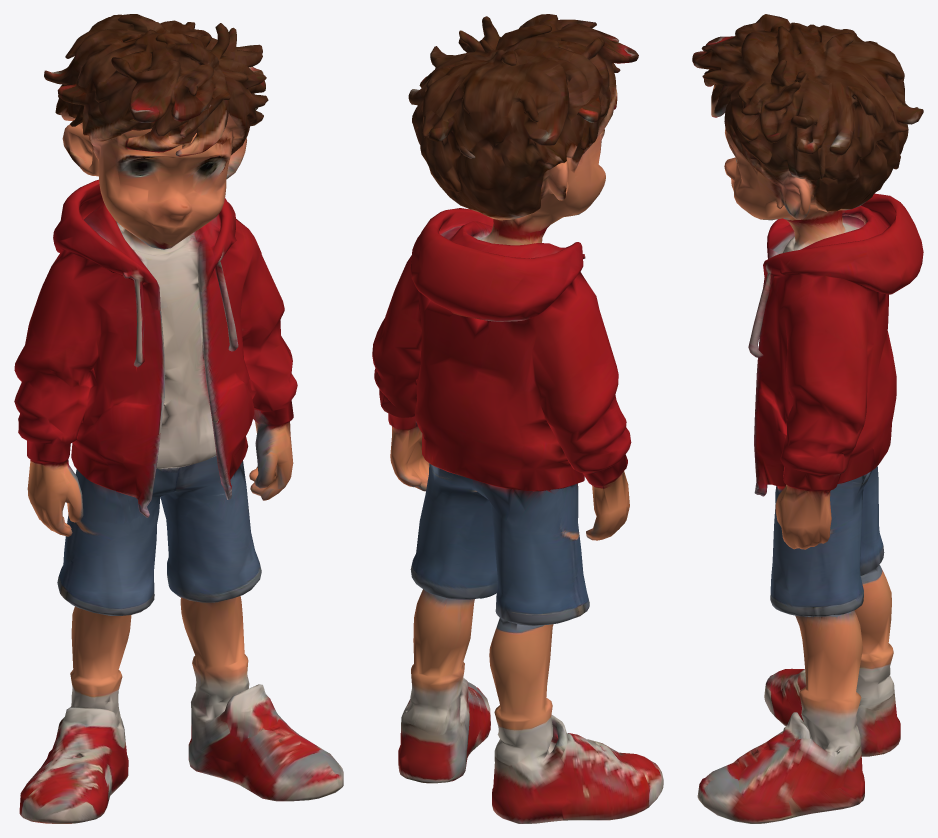
The model's file is nino.glb.
3 views of the same model, side by side, from view 1: azimuth 30°, elevation 25°; view 2: azimuth 150°, elevation 25°; view 3: azimuth 270°, elevation 25° (orthographic). The views are drawn at different scales.
Parts seen in each view (by area): view 1: tripo_node_ba771f45-2ddb-49ac-a0da-1cf7f84aabed; view 2: tripo_node_ba771f45-2ddb-49ac-a0da-1cf7f84aabed; view 3: tripo_node_ba771f45-2ddb-49ac-a0da-1cf7f84aabed.
Part boxes in pixels (x1=…): tripo_node_ba771f45-2ddb-49ac-a0da-1cf7f84aabed: x1=14, y1=14, x2=343, y2=823; tripo_node_ba771f45-2ddb-49ac-a0da-1cf7f84aabed: x1=372, y1=14, x2=663, y2=823; tripo_node_ba771f45-2ddb-49ac-a0da-1cf7f84aabed: x1=692, y1=14, x2=923, y2=823.
Bounding box in the file's own units: 0.3789 × 0.9992 × 0.2879.
1 material, 1 textured.
